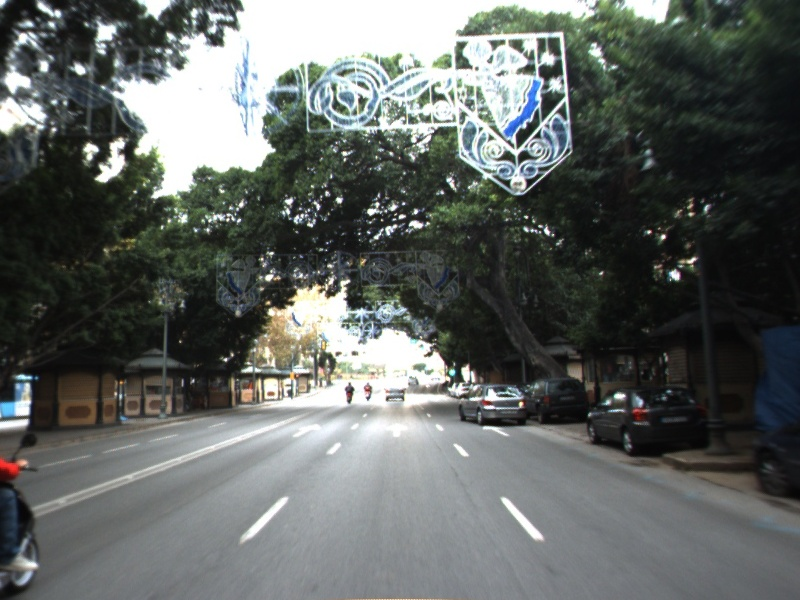STRAIGHT: (290, 422, 324, 439), (382, 421, 412, 439), (480, 423, 513, 439)
